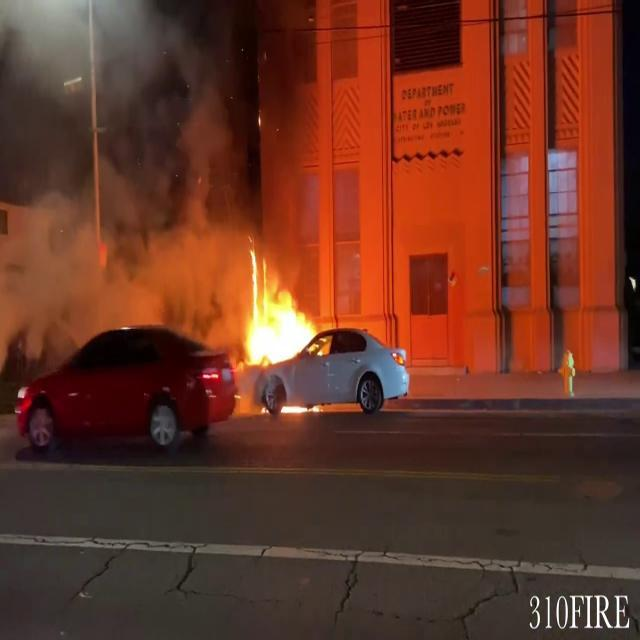Fire: (232, 244, 324, 370)
Smoke: (1, 0, 323, 325)
